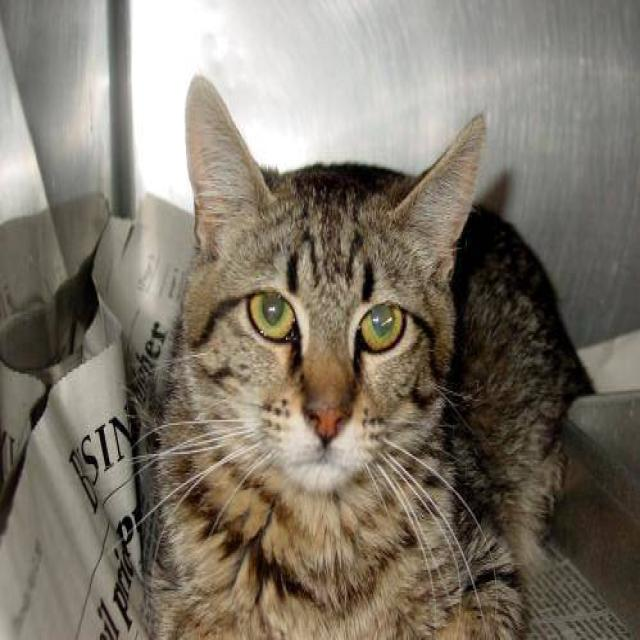cat: (127, 72, 596, 638)
